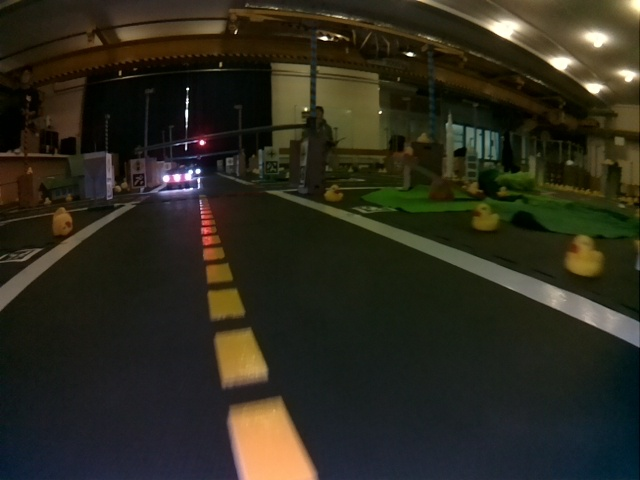Duckie: (564, 234, 604, 276), (472, 205, 500, 231), (52, 207, 73, 236), (323, 185, 343, 201)
Duckiebot: (163, 169, 192, 189)
QR code: (353, 204, 396, 215), (131, 173, 146, 187), (265, 161, 277, 175), (298, 168, 306, 187)
Traffic light: (197, 138, 206, 147)
